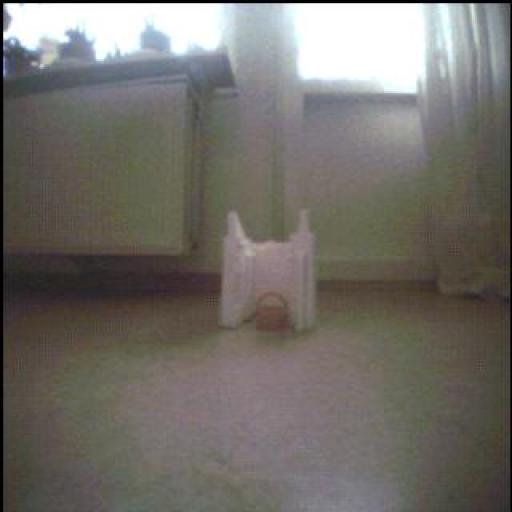Basket: (257, 292, 291, 332)
